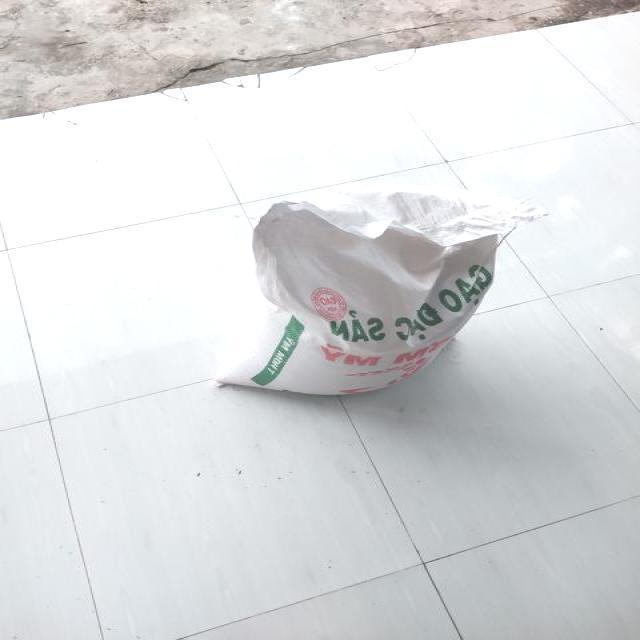gunny_bag: (215, 185, 545, 394)
